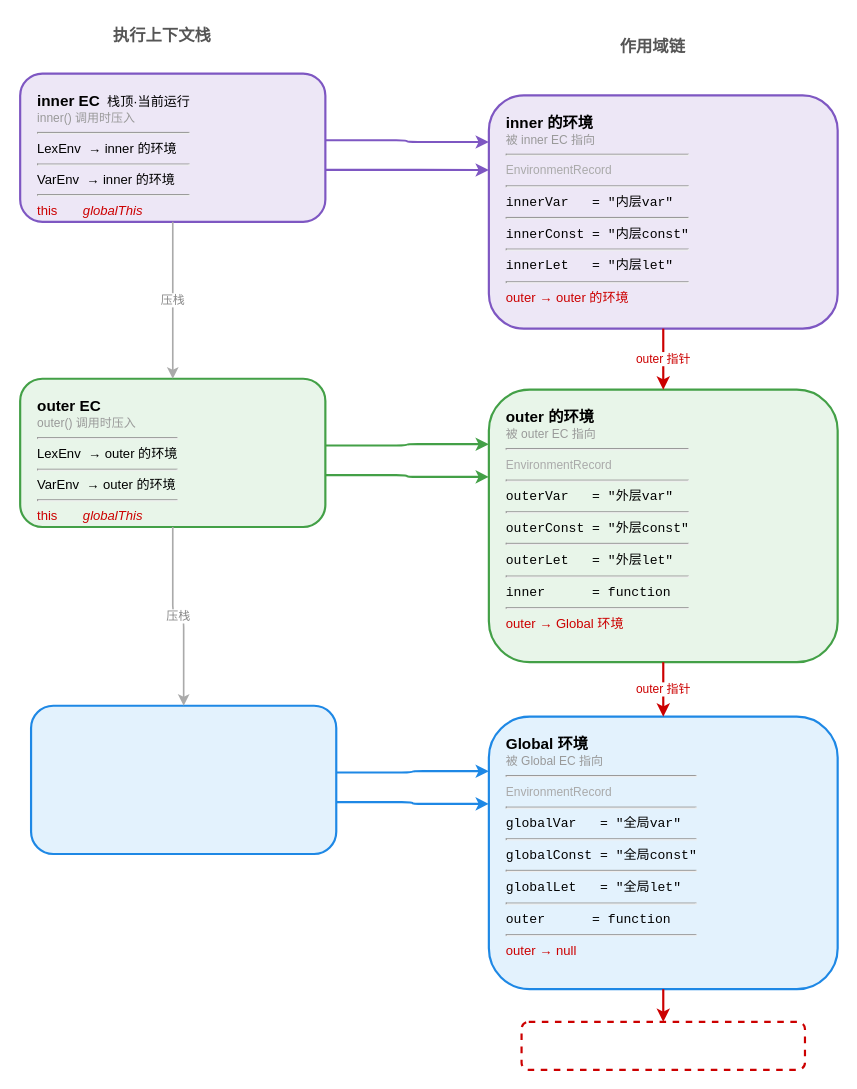
Image size: 857x1089. Some labels were removed from this diagram. The box of each missing label's shape, as (x1, y1, x2, y2) in pixels:
Global EC 栈底 程序启动自动创建 LexEnv → Global 环境 VarEnv → Global 环境 this window: (29, 704, 337, 855)
null → ReferenceError: (520, 1020, 806, 1070)
